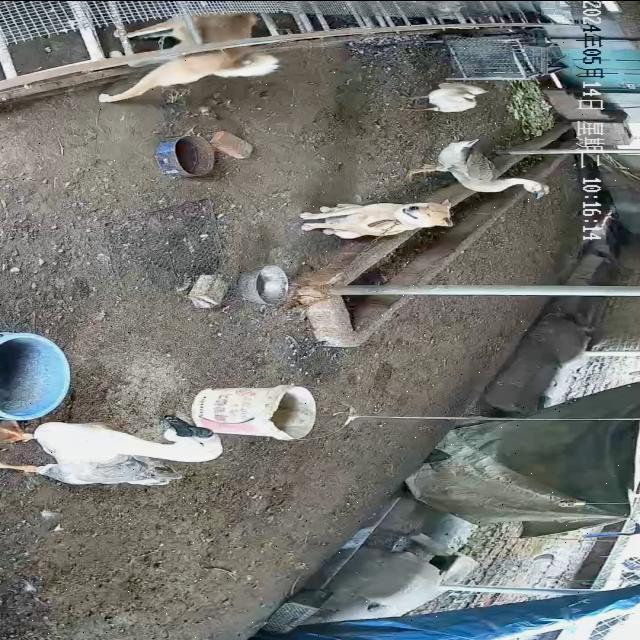dog: (98, 13, 283, 103), (301, 199, 455, 239)
